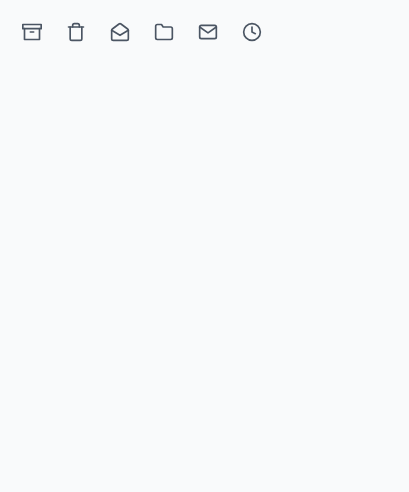
Test: BulkActions - Snooze › opens snooze picker when Snooze button is clicked
Step 1. Click the button named "snooze" → (252, 32), box [232,12,272,52]
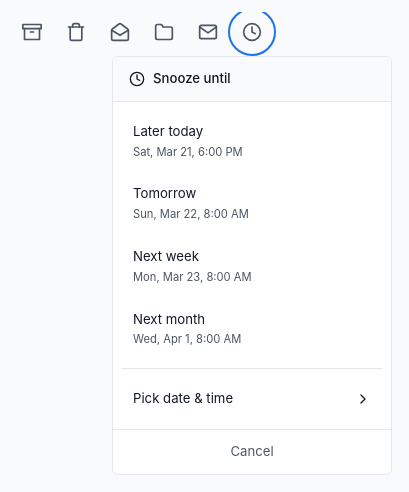
Check: the text "Snooze until" is shown, box [153,69,231,89]
